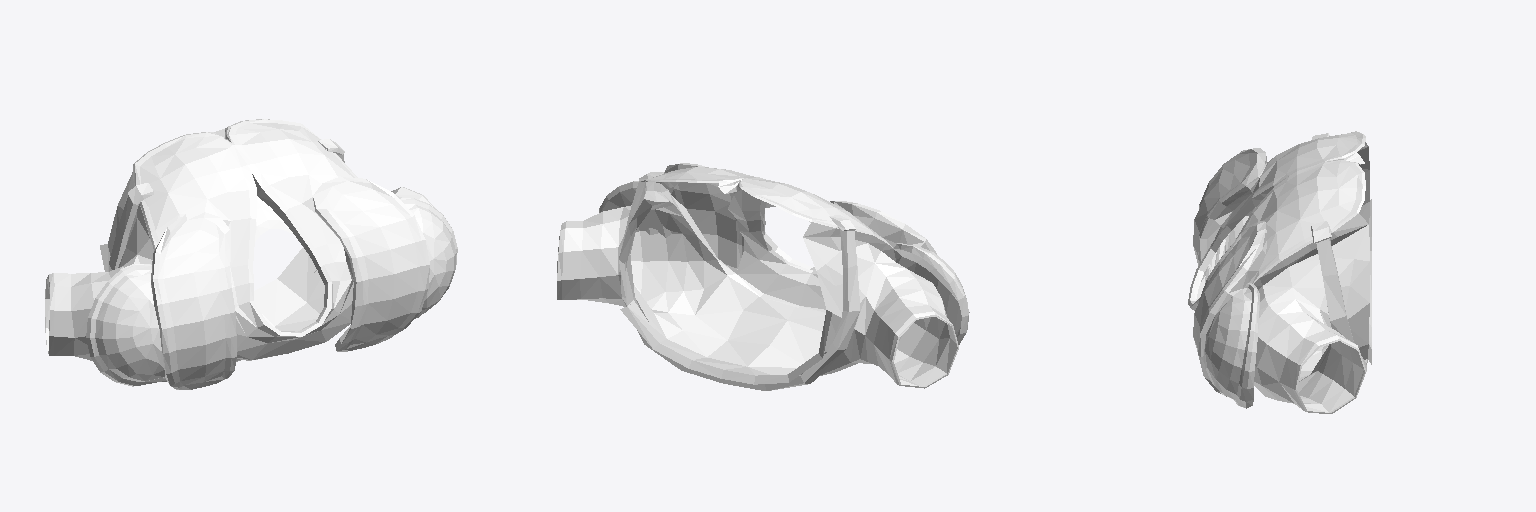
The model's file is mdlT.obj.
3 views of the same model, side by side, from view 1: azimuth 30°, elevation 25°; view 2: azimuth 150°, elevation 25°; view 3: azimuth 270°, elevation 25° (orthographic).
Visible parts, largest first — view 1: mdl; view 2: mdl; view 3: mdl.
Part boxes in pixels (x1,y1,x2,y2): mdl: (45, 119, 457, 389); mdl: (557, 163, 969, 390); mdl: (1188, 131, 1371, 413).
Bounding box in the file's own units: 48.17 × 22.99 × 19.34.